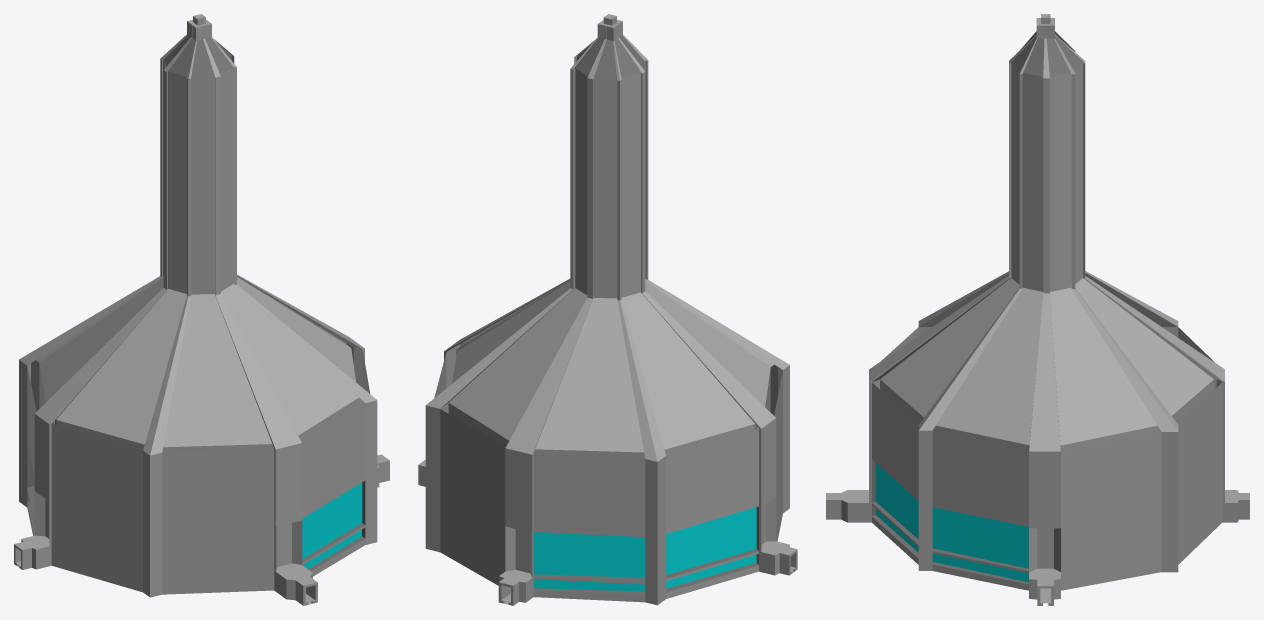
Rendered from HubImprovedV1.fbx.
3 views of the same model, side by side, from view 1: azimuth 30°, elevation 25°; view 2: azimuth 150°, elevation 25°; view 3: azimuth 270°, elevation 25° (orthographic). The views are drawn at different scales.
Parts seen in each view (by area): view 1: DaraghsHub, TopWindow4; view 2: DaraghsHub, TopWindow2, TopWindow1, BottomWindow2, BottomWindow1; view 3: DaraghsHub, TopWindow3, TopWindow4, BottomWindow3.
Part boxes in pixels (x1=…): DaraghsHub: x1=14, y1=14, x2=389, y2=605; TopWindow4: x1=302, y1=483, x2=362, y2=559; DaraghsHub: x1=418, y1=14, x2=797, y2=605; TopWindow2: x1=533, y1=532, x2=645, y2=577; TopWindow1: x1=666, y1=507, x2=756, y2=574; BottomWindow2: x1=533, y1=579, x2=645, y2=591; BottomWindow1: x1=666, y1=554, x2=756, y2=588; DaraghsHub: x1=826, y1=14, x2=1249, y2=605; TopWindow3: x1=932, y1=507, x2=1028, y2=568; TopWindow4: x1=875, y1=462, x2=918, y2=539; BottomWindow3: x1=932, y1=553, x2=1028, y2=582.
Bounding box in the file's own units: 152 × 200 × 154.
